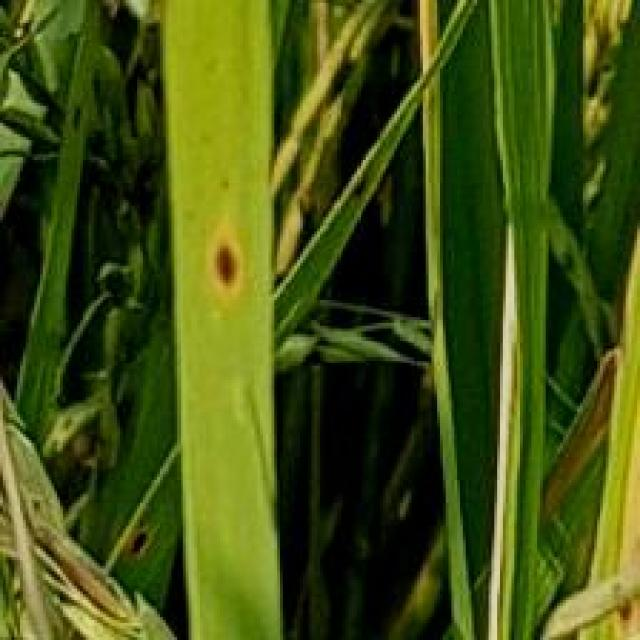Brown_Spot: (197, 208, 252, 303)
